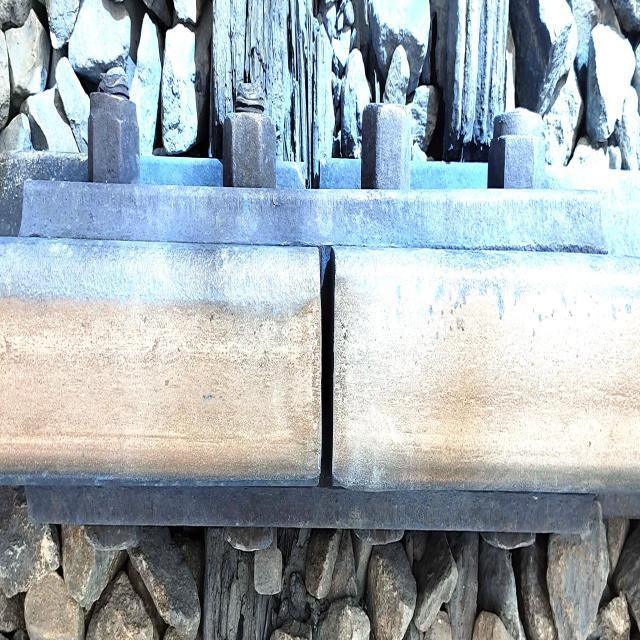Good Joint: (24, 68, 614, 536)
